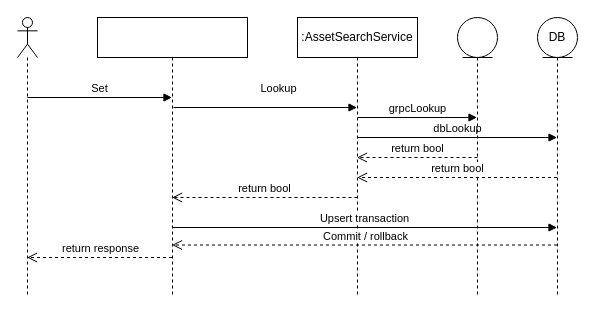
Some shapes in this 595 by 315 pixel diagram are drawn without their labels. The box of each missing label's shape, as (x1, y1, x2, y2) in pixels:
asset: (456, 16, 498, 298)
«interface» FavoritesService: (96, 16, 248, 298)
